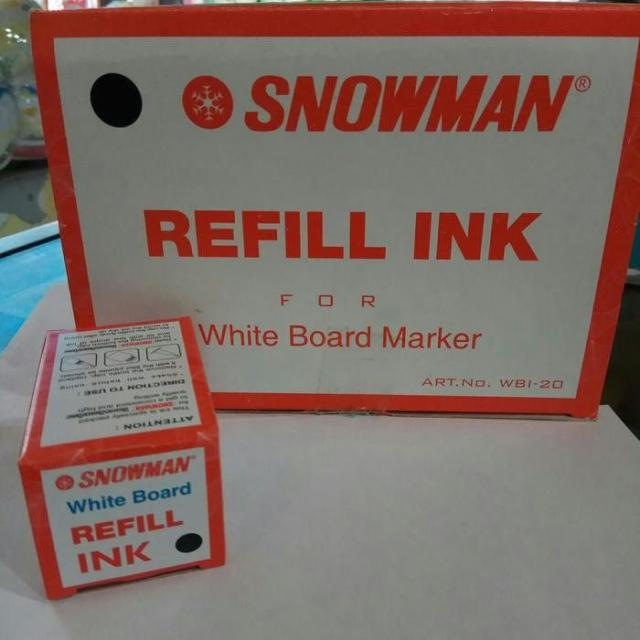zat_kimia: (33, 13, 615, 370), (20, 322, 242, 586)
